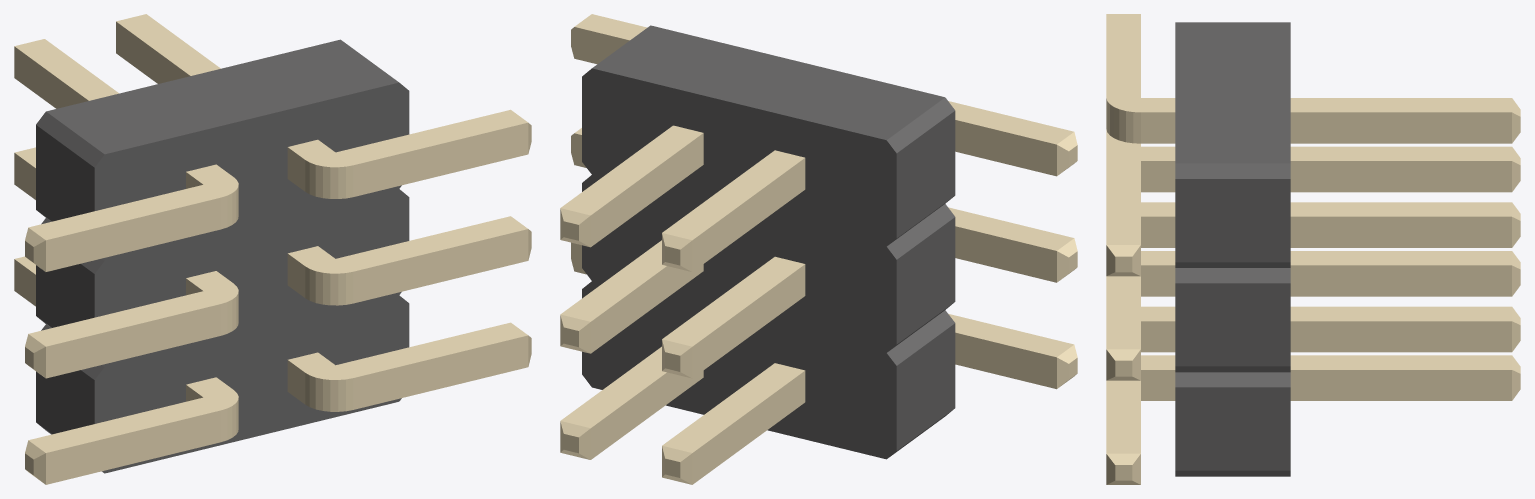
File: PinHeader_2x03_P1.00mm_Vertical_SMD.glb
The picture shows the model from 3 angles, left to right: view 1: azimuth 30°, elevation 25°; view 2: azimuth 150°, elevation 25°; view 3: azimuth 270°, elevation 25°; orthographic projection.
Parts seen in each view (by area): view 1: Shape_IndexedFaceSet.003, Shape_IndexedFaceSet.001, Shape_IndexedFaceSet.073, Shape_IndexedFaceSet.093, Shape_IndexedFaceSet.088, Shape_IndexedFaceSet.078, Shape_IndexedFaceSet.083, Shape_IndexedFaceSet.098, Shape_IndexedFaceSet.007, Shape_IndexedFaceSet.036, Shape_IndexedFaceSet.022, Shape_IndexedFaceSet.042 (+21 smaller); view 2: Shape_IndexedFaceSet.004, Shape_IndexedFaceSet.001, Shape_IndexedFaceSet.019, Shape_IndexedFaceSet.007, Shape_IndexedFaceSet.013, Shape_IndexedFaceSet.053, Shape_IndexedFaceSet.054, Shape_IndexedFaceSet.059, Shape_IndexedFaceSet.069, Shape_IndexedFaceSet.055, Shape_IndexedFaceSet.050, Shape_IndexedFaceSet.066 (+16 smaller); view 3: Shape_IndexedFaceSet.001, Shape_IndexedFaceSet.002, Shape_IndexedFaceSet.010, Shape_IndexedFaceSet.016, Shape_IndexedFaceSet.047, Shape_IndexedFaceSet.056, Shape_IndexedFaceSet.051, Shape_IndexedFaceSet.061, Shape_IndexedFaceSet.067, Shape_IndexedFaceSet.062, Shape_IndexedFaceSet.031, Shape_IndexedFaceSet.036 (+23 smaller).
Boxes of the visible parts, x1,y1,x2,y2 form: Shape_IndexedFaceSet.003: [94, 82, 409, 473]; Shape_IndexedFaceSet.001: [46, 39, 398, 154]; Shape_IndexedFaceSet.073: [353, 229, 528, 303]; Shape_IndexedFaceSet.093: [353, 335, 528, 409]; Shape_IndexedFaceSet.088: [353, 123, 528, 196]; Shape_IndexedFaceSet.078: [46, 304, 220, 378]; Shape_IndexedFaceSet.083: [46, 197, 220, 271]; Shape_IndexedFaceSet.098: [46, 410, 220, 484]; Shape_IndexedFaceSet.007: [36, 125, 94, 221]; Shape_IndexedFaceSet.036: [288, 109, 527, 167]; Shape_IndexedFaceSet.022: [288, 216, 527, 273]; Shape_IndexedFaceSet.042: [28, 377, 238, 452]; Shape_IndexedFaceSet.004: [582, 68, 896, 459]; Shape_IndexedFaceSet.001: [592, 25, 944, 139]; Shape_IndexedFaceSet.019: [896, 323, 955, 450]; Shape_IndexedFaceSet.007: [896, 111, 955, 237]; Shape_IndexedFaceSet.013: [896, 217, 955, 344]; Shape_IndexedFaceSet.053: [692, 264, 805, 378]; Shape_IndexedFaceSet.054: [692, 158, 805, 271]; Shape_IndexedFaceSet.059: [590, 133, 703, 246]; Shape_IndexedFaceSet.069: [692, 371, 805, 484]; Shape_IndexedFaceSet.055: [662, 150, 804, 240]; Shape_IndexedFaceSet.050: [662, 256, 804, 346]; Shape_IndexedFaceSet.066: [662, 363, 804, 452]; Shape_IndexedFaceSet.001: [1175, 22, 1290, 163]; Shape_IndexedFaceSet.002: [1175, 179, 1290, 262]; Shape_IndexedFaceSet.010: [1175, 283, 1290, 366]; Shape_IndexedFaceSet.016: [1175, 387, 1290, 470]; Shape_IndexedFaceSet.047: [1290, 265, 1511, 296]; Shape_IndexedFaceSet.056: [1290, 112, 1511, 143]; Shape_IndexedFaceSet.051: [1290, 216, 1511, 247]; Shape_IndexedFaceSet.061: [1290, 161, 1511, 192]; Shape_IndexedFaceSet.067: [1290, 321, 1511, 352]; Shape_IndexedFaceSet.062: [1290, 370, 1511, 400]; Shape_IndexedFaceSet.031: [1106, 14, 1175, 112]; Shape_IndexedFaceSet.036: [1106, 146, 1175, 244].
Bounding box in the file's own units: 1.93 × 1.18 × 1.42.
